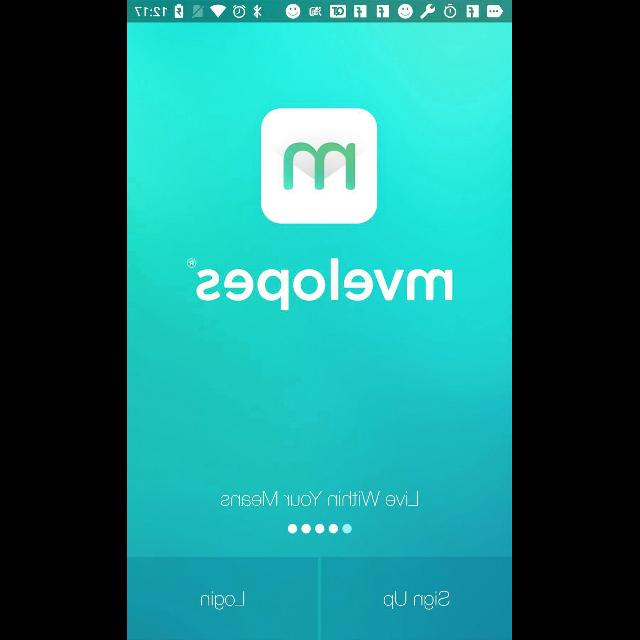image: (262, 108, 378, 224)
pageindicator: (288, 524, 354, 534)
text: (186, 258, 454, 310), (222, 490, 418, 506)
textbutton: (128, 556, 318, 640), (322, 558, 512, 640)
uppertaskbar: (128, 1, 512, 23)
